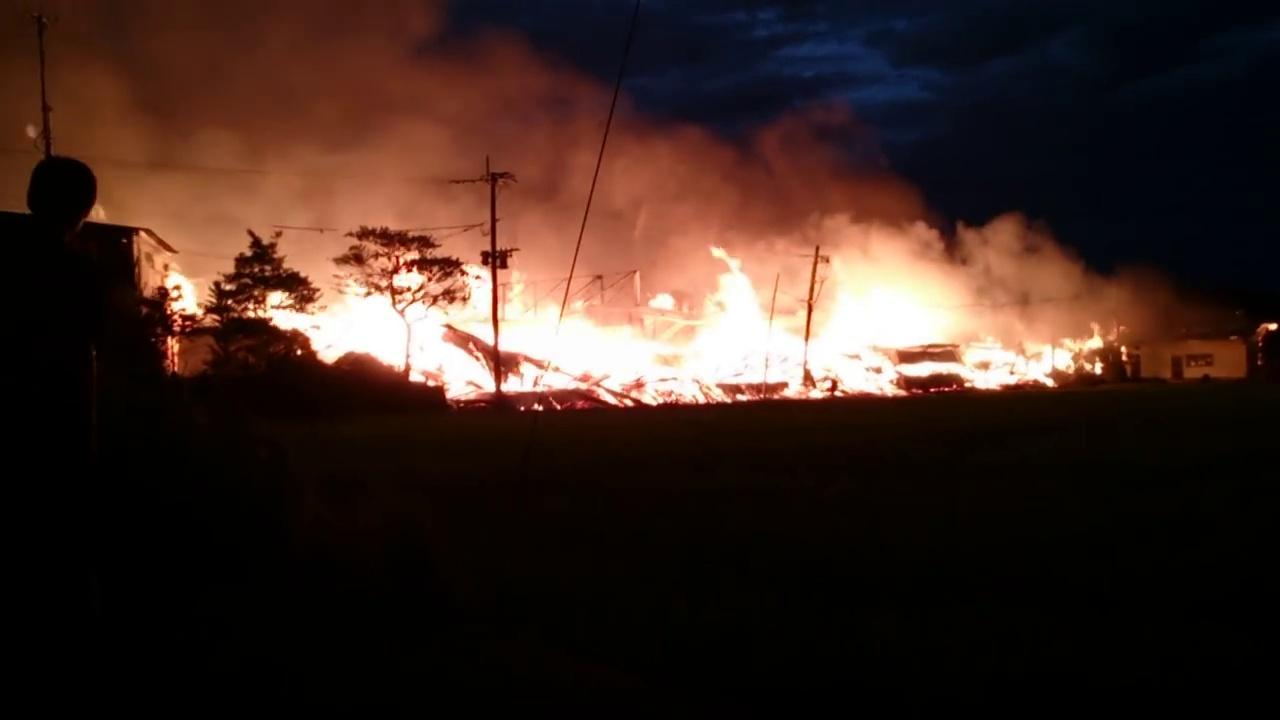fire: (323, 307, 783, 395)
smoke: (74, 20, 456, 202), (558, 111, 758, 263)
